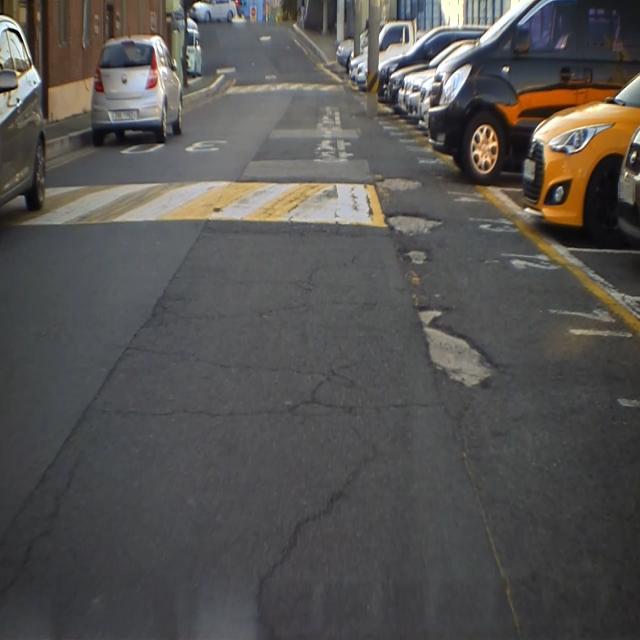Pothole: (414, 303, 496, 395), (381, 206, 446, 239), (372, 171, 424, 198), (398, 243, 433, 273)
